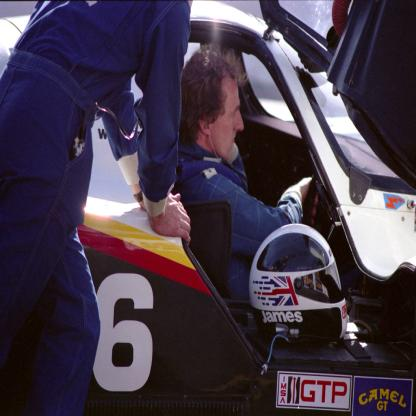Helmet: (247, 222, 347, 346)
